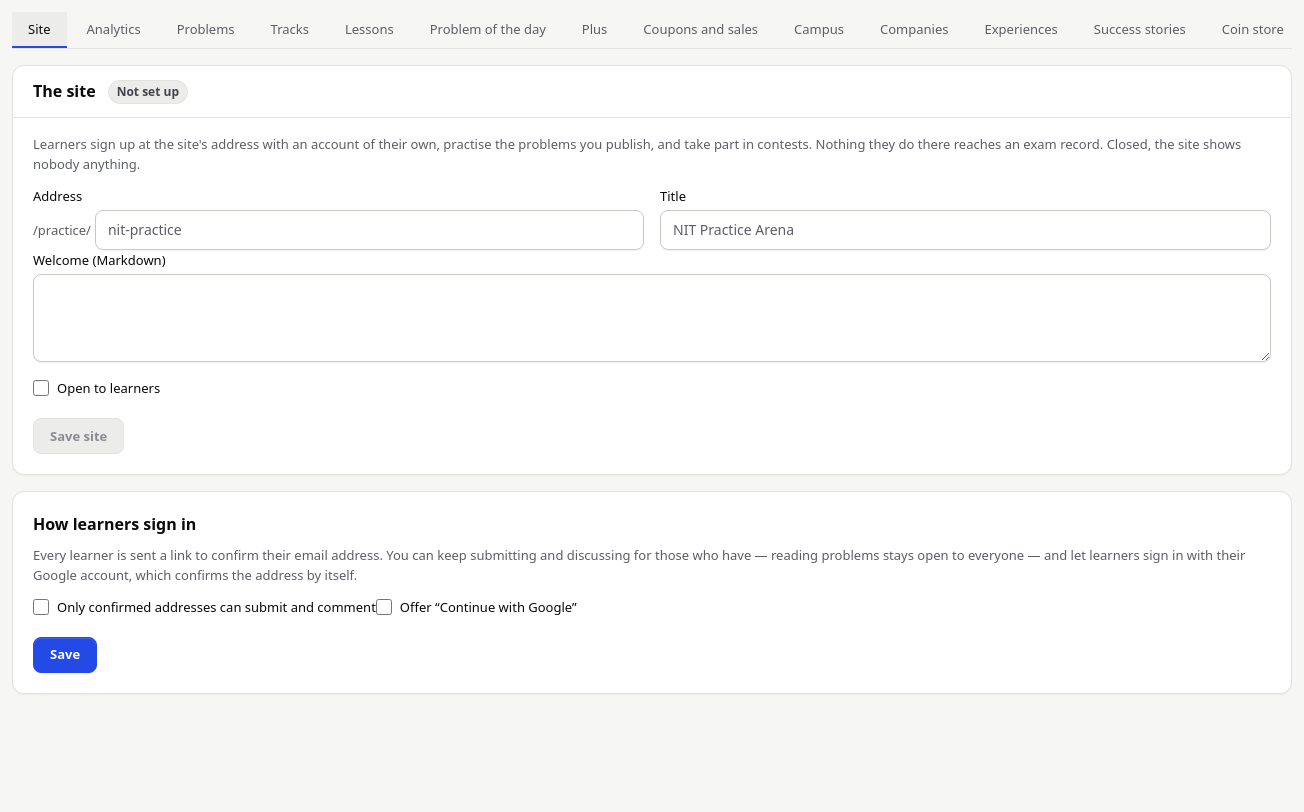
it: finishing the site (ROADMAP §15) › does not offer the comparison without the right to review
Click the tab "Problems".
click(206, 30)  # box x1=161 y1=12 x2=251 y2=48
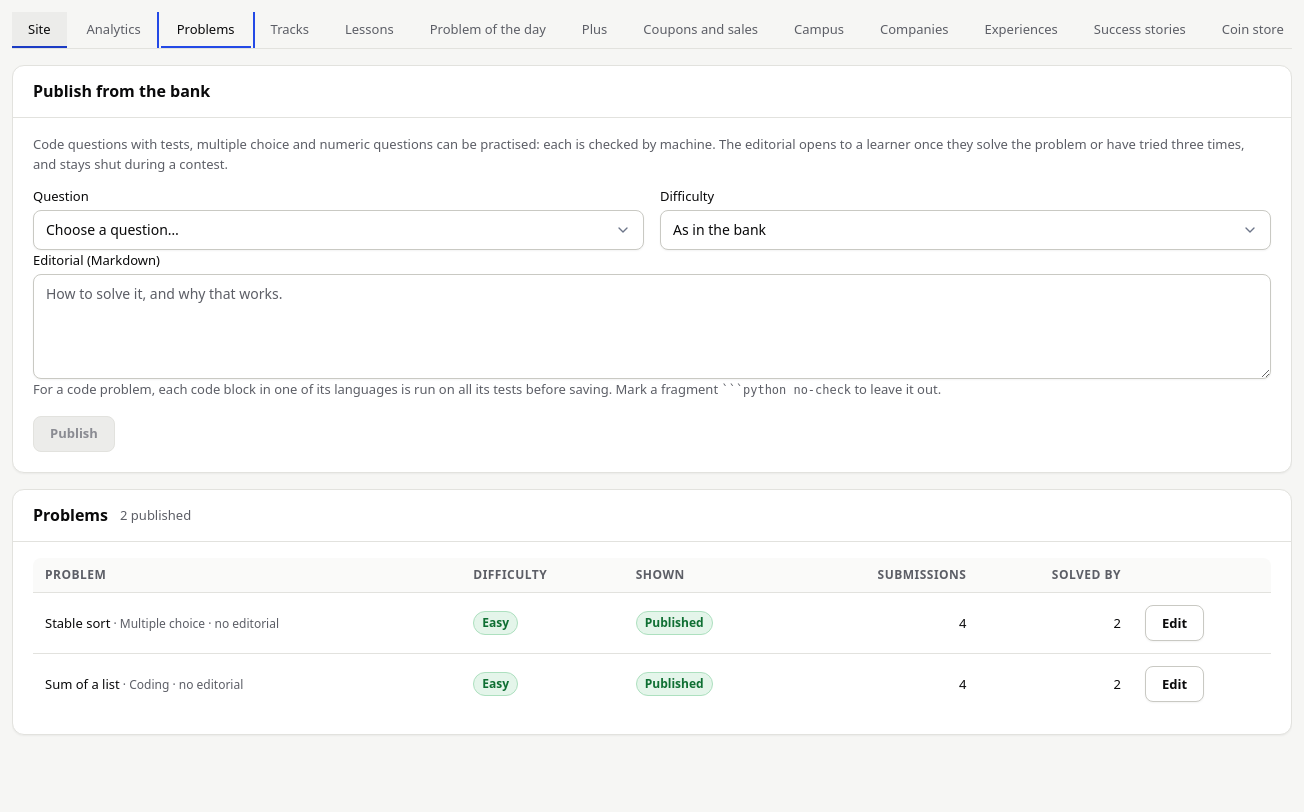
Now the text "Sum of a list" is shown, box x1=45 y1=675 x2=120 y2=693
